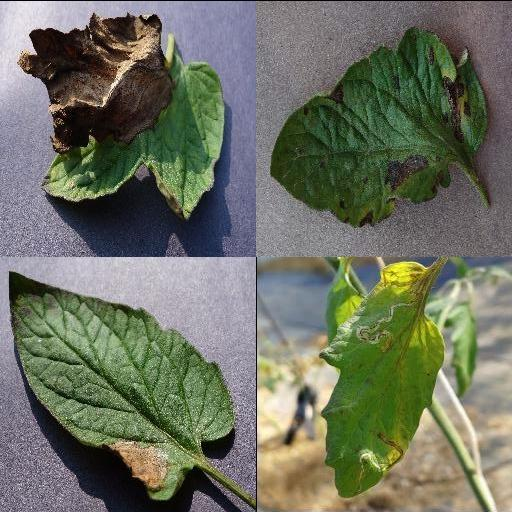Early Blight: (269, 25, 491, 225)
Late Blight: (8, 267, 236, 499), (16, 11, 226, 225)
Leaf Miner: (317, 257, 449, 499)
